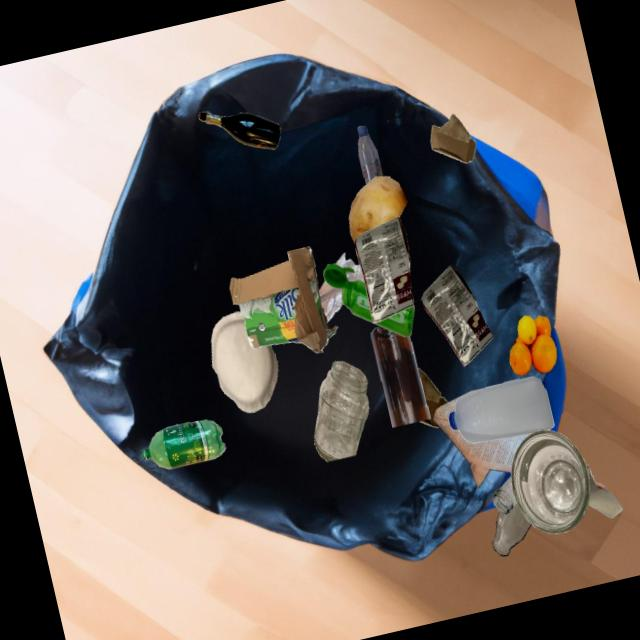biowaste: (349, 176, 407, 245), (509, 315, 556, 375)
cardboard: (229, 246, 337, 352), (430, 113, 476, 162), (586, 464, 622, 518), (417, 367, 447, 427)
glass: (511, 429, 590, 533), (370, 325, 430, 427), (314, 361, 369, 462), (198, 111, 280, 149), (492, 502, 531, 556), (492, 475, 516, 514)
paper: (433, 389, 530, 488), (211, 311, 278, 412), (319, 280, 343, 322), (335, 252, 364, 282)
plastic: (420, 265, 493, 366), (448, 376, 554, 443), (354, 216, 414, 323), (141, 419, 225, 469), (323, 263, 372, 322), (357, 125, 383, 184), (373, 304, 414, 337)
